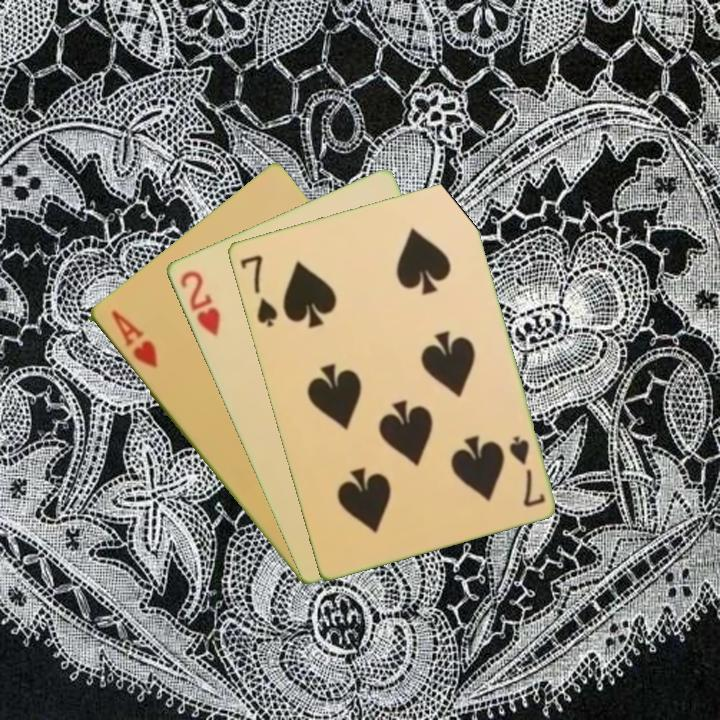2h: (176, 266, 223, 339)
7s: (236, 250, 280, 330), (505, 432, 548, 510)
Ah: (107, 306, 160, 371)
